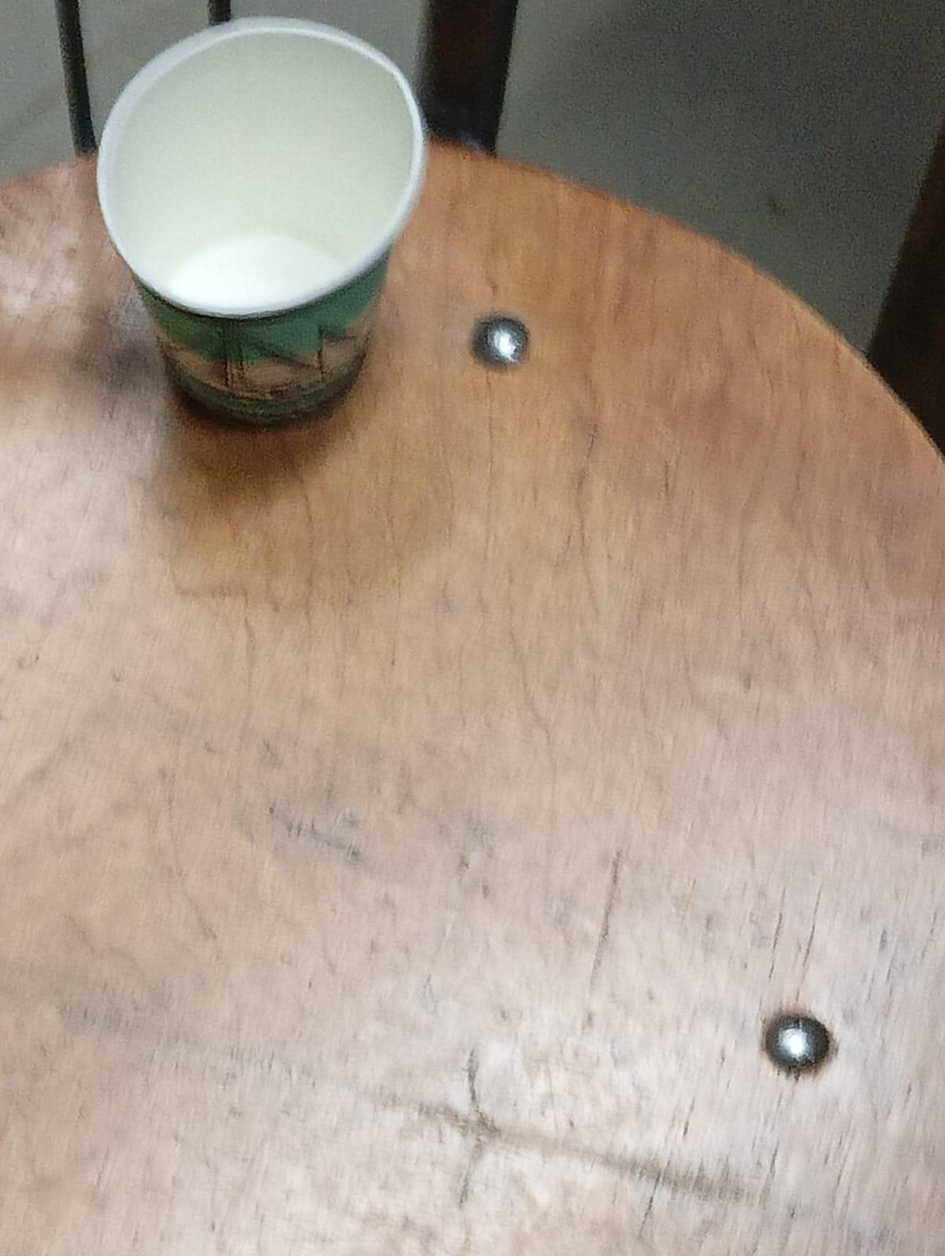cup: (96, 17, 425, 426), (97, 19, 427, 318)
